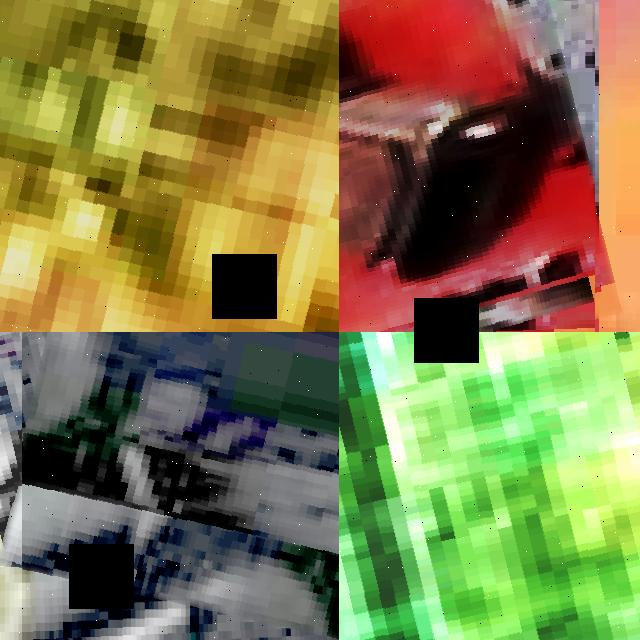arms: (0, 0, 339, 332), (339, 0, 640, 332), (22, 332, 339, 640), (339, 332, 640, 640), (339, 0, 595, 332), (339, 0, 551, 332), (0, 332, 87, 567)
